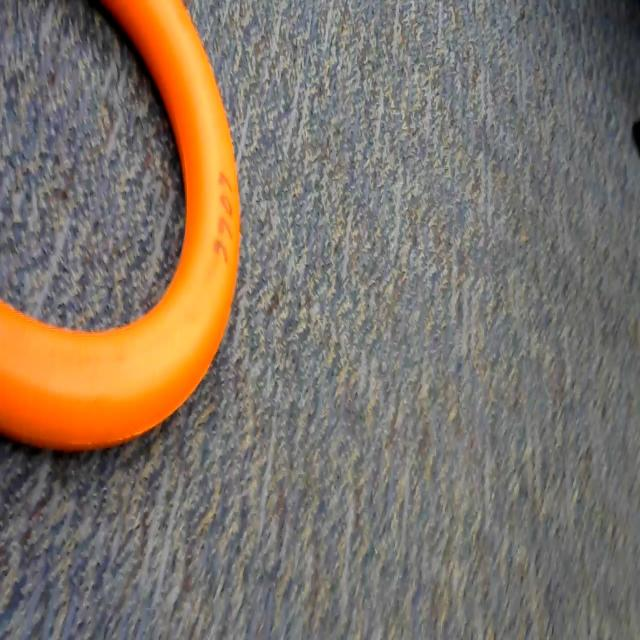note: (0, 0, 256, 478)
